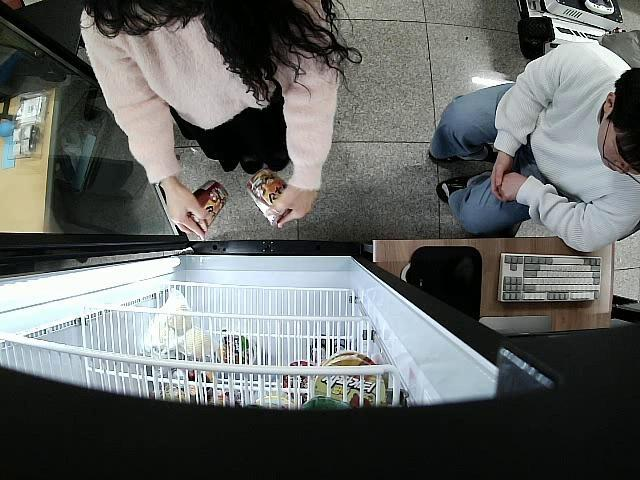06_nuguri_S: (246, 167, 292, 226), (186, 180, 228, 234)
